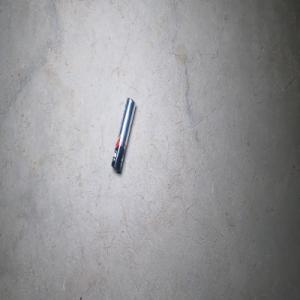Battery: (110, 97, 136, 172)
